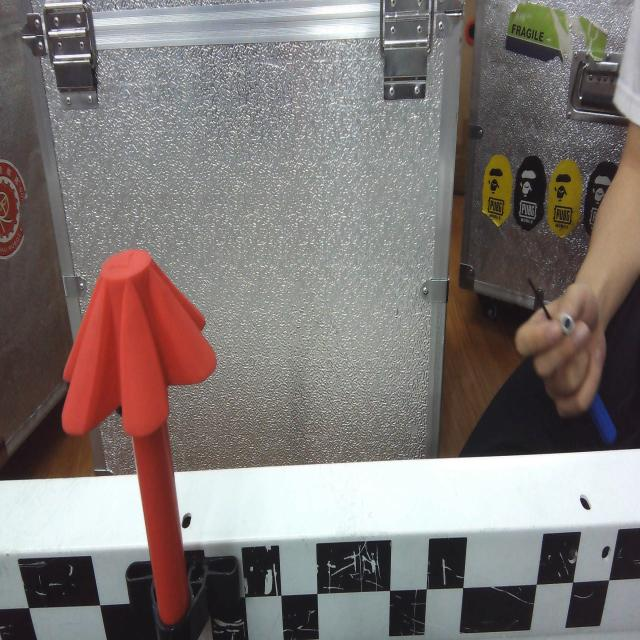zred-Stake-Head: (62, 248, 218, 438)
